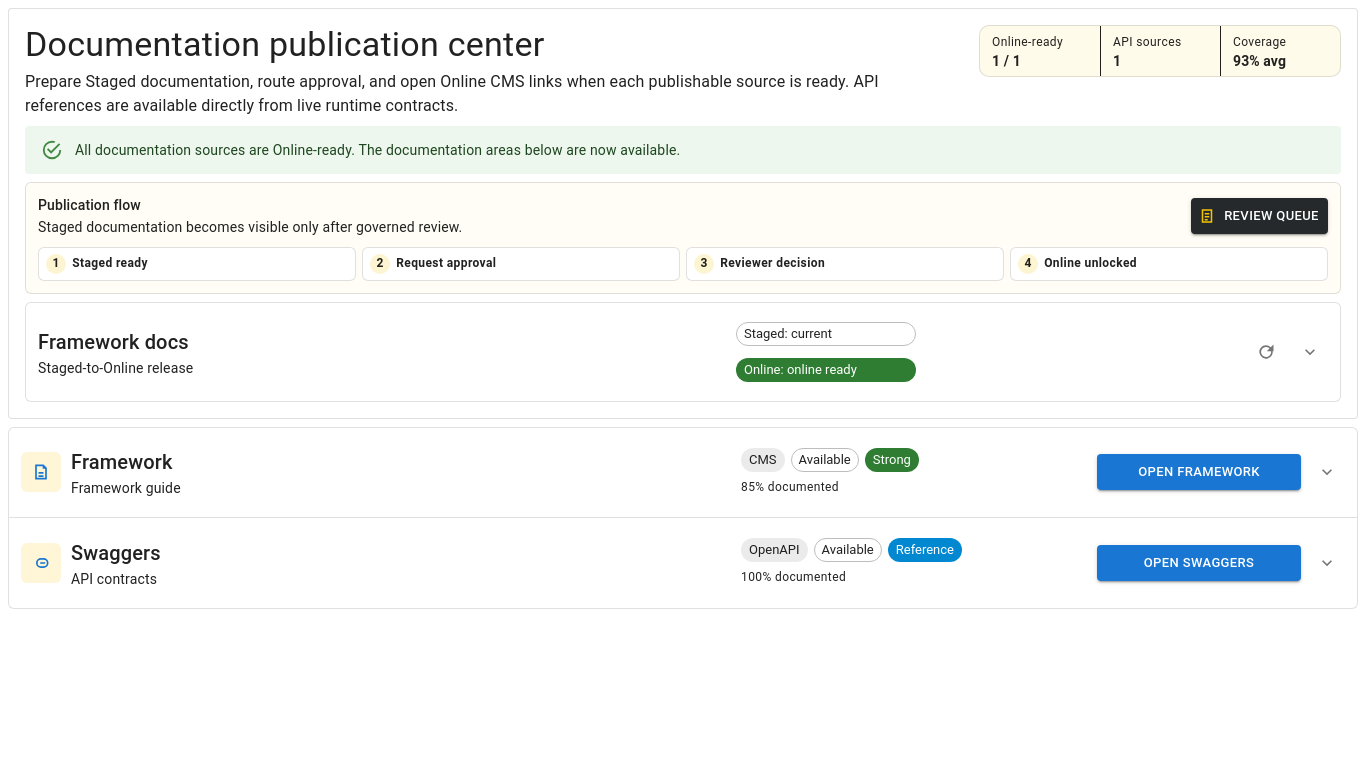
it: DocumentationRoutePage › renders the documentation dashboard from registered documentation sources once published
The width and height of the screenshot is (1366, 768).
Expected: the heading "Documentation publication center" is shown, 25,24 -> 544,64
Expected: the link "Open Framework" is shown, 1097,454 -> 1301,490
Click the button named "Show Framework overview details".
click(1327, 472)  # box 1309,454 -> 1345,490
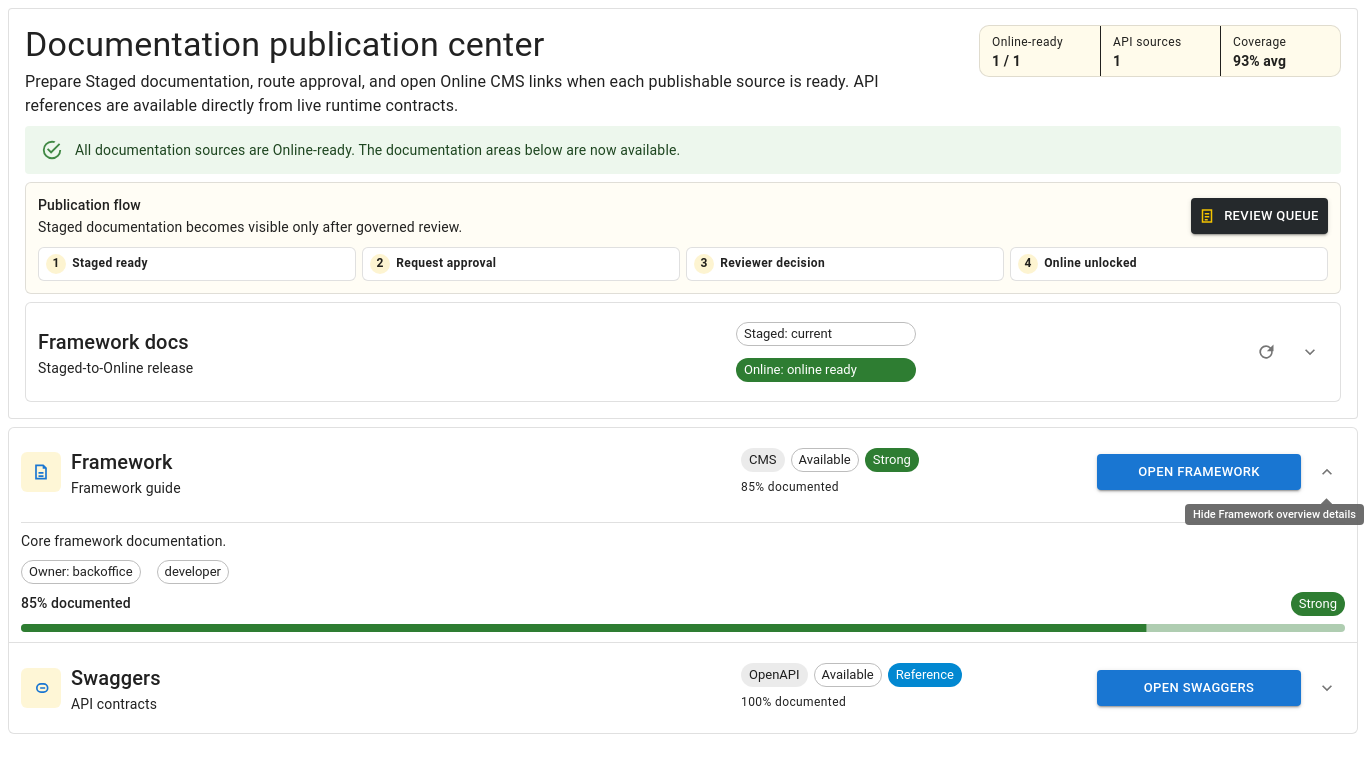
Expected: the text "85% documented" is shown, 741,480 -> 839,494
Expected: the text "Core framework documentation." is shown, 21,534 -> 226,550
